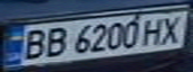0: (121, 17, 145, 50), (106, 19, 127, 52)
2: (90, 20, 112, 54)
6: (69, 21, 93, 55)
B: (15, 27, 51, 62), (39, 25, 72, 58)
H: (139, 15, 169, 47)
X: (157, 12, 190, 45)
